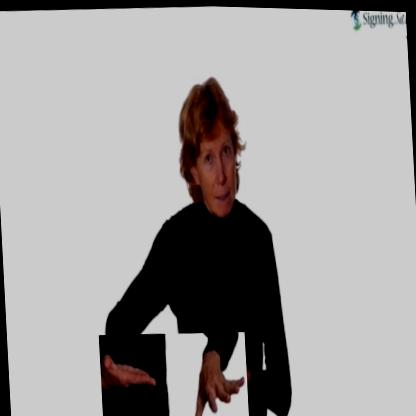Expensive: (99, 326, 249, 416)
